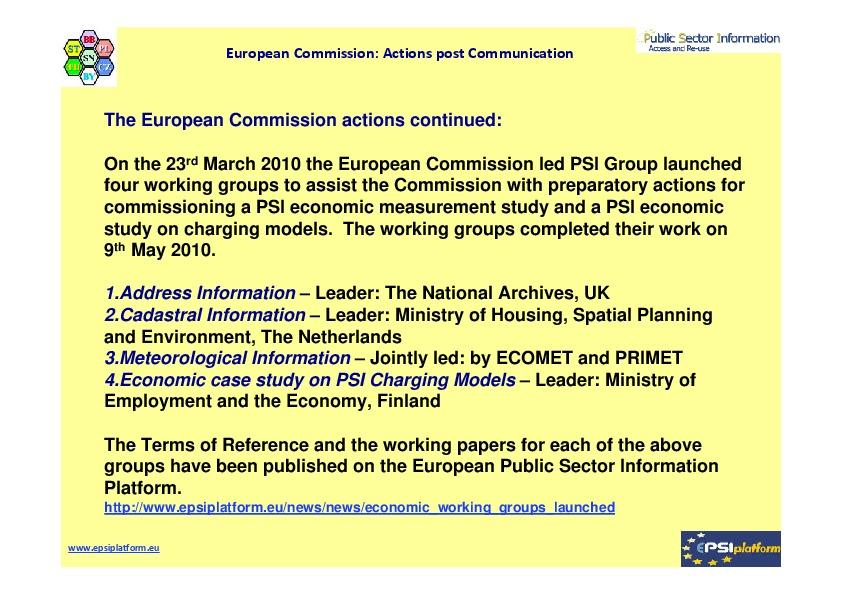paragraph: (93, 137, 753, 536)
subtitle: (63, 540, 174, 565)
title: (94, 104, 539, 133)
